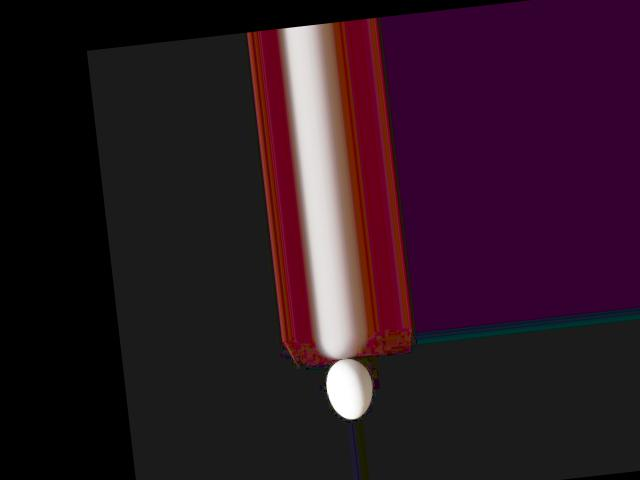egg: (323, 355, 374, 421)
